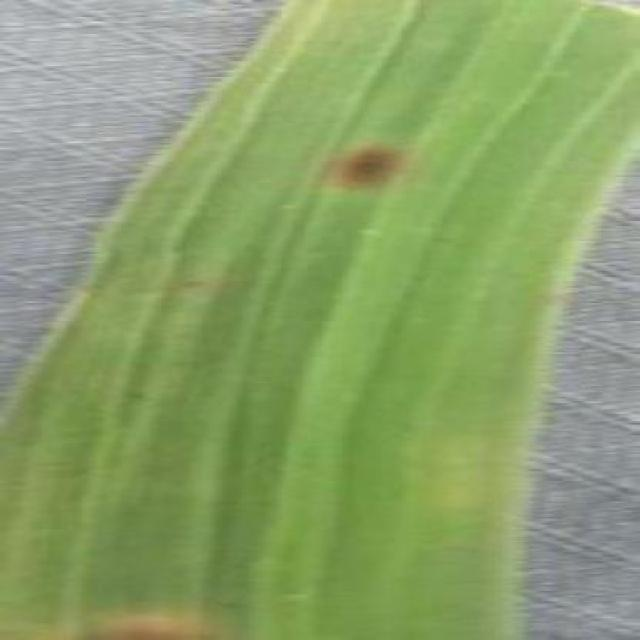Leaf_Blast: (28, 595, 226, 640), (305, 127, 423, 196), (44, 447, 102, 490), (418, 214, 472, 258), (177, 248, 211, 297), (405, 259, 440, 293), (212, 589, 254, 617), (120, 374, 154, 408), (404, 0, 442, 26), (272, 192, 306, 219), (322, 27, 350, 53)
